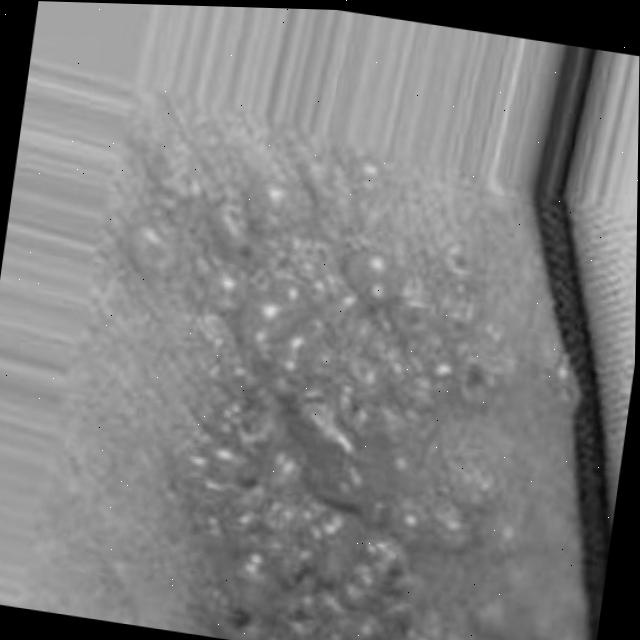Shingles: (70, 132, 567, 640)
